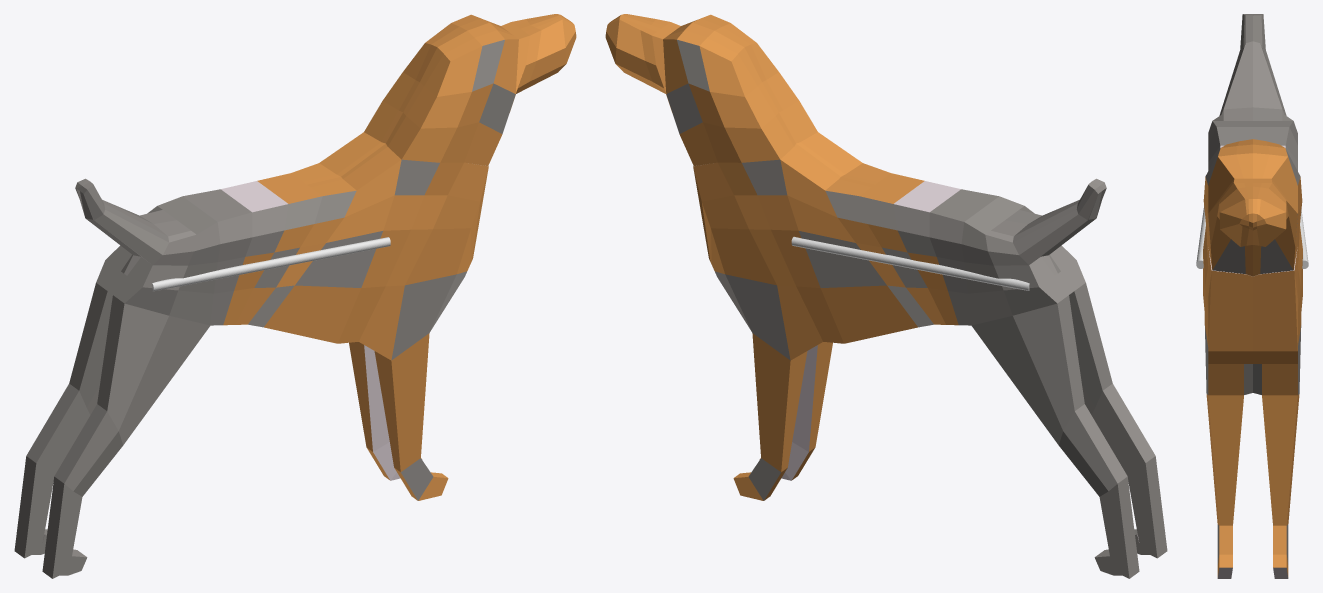
3 renders of one model, left to right at view 1: azimuth 30°, elevation 25°; view 2: azimuth 150°, elevation 25°; view 3: azimuth 270°, elevation 25°, orthographic. The views are drawn at different scales.
Visible parts, largest first — view 1: Plane, Cylinder.001; view 2: Plane, Cylinder; view 3: Plane, Cylinder.001, Cylinder.
Part boxes in pixels (box(x1,y1,x2,y2)): Plane: box(14, 14, 576, 578); Cylinder.001: box(152, 237, 390, 291); Plane: box(605, 14, 1167, 578); Cylinder: box(791, 236, 1029, 290); Plane: box(1203, 14, 1302, 578); Cylinder.001: box(1196, 206, 1205, 268); Cylinder: box(1300, 209, 1308, 268).
Bounding box in the file's own units: 342 × 269 × 59.82.
